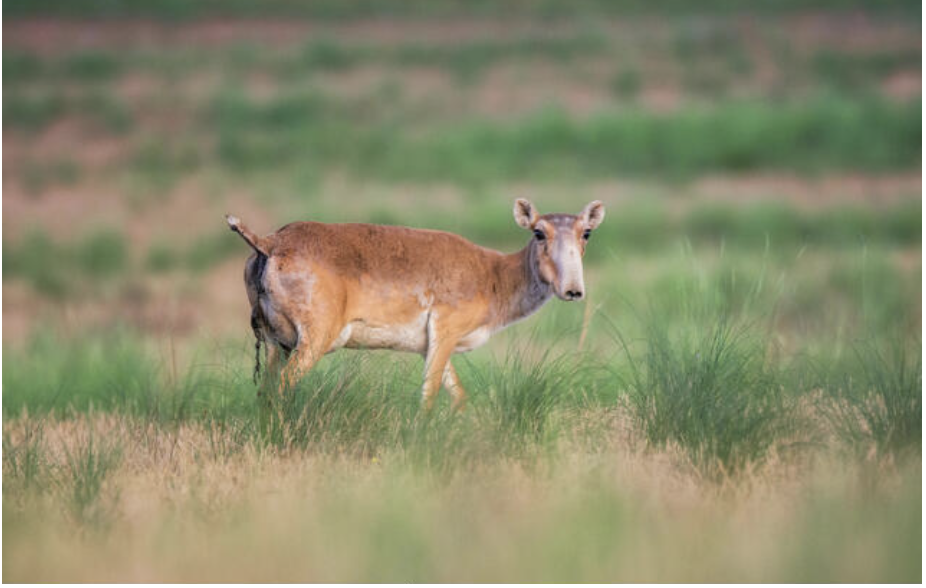saiga: (202, 180, 615, 440)
